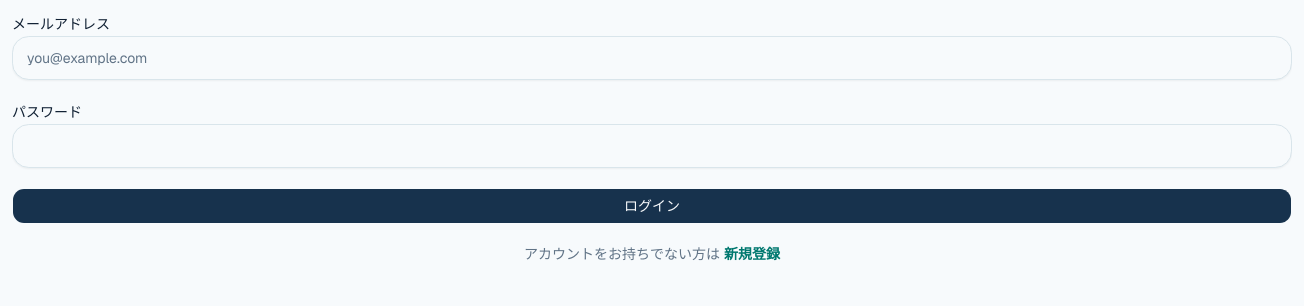
LoginForm › APIがバリデーションエラーを返した場合_フォームへエラーを表示すること
The image size is (1304, 306).
Type "user@example.com" into the field labelled "メールアドレス" at (652, 58), box 12,36 -> 1292,80
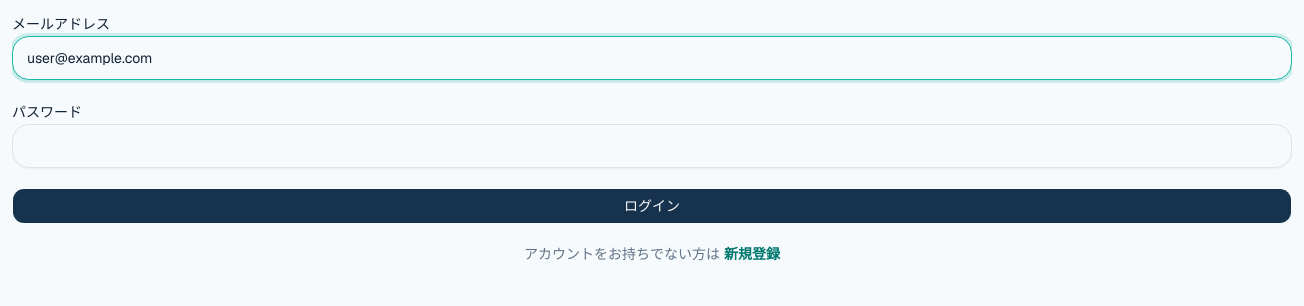
Type "incorrect-password" into the password field labelled "パスワード" at (652, 146), box 12,124 -> 1292,168
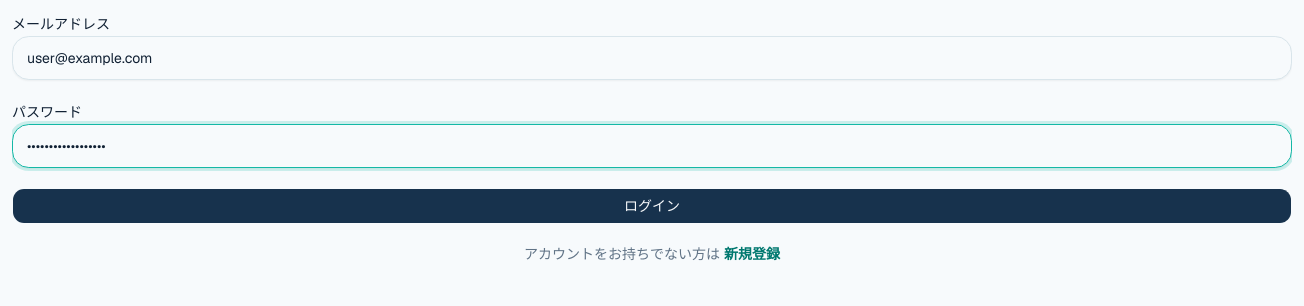
Click the button "ログイン" at (652, 206), box 12,188 -> 1292,224
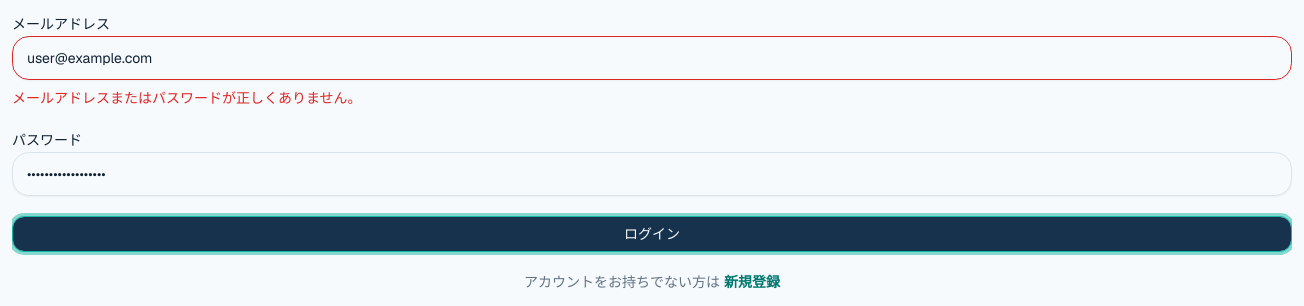
Expected: the text "メールアドレスまたはパスワードが正しくありません。" is shown, 12,89 -> 362,107
